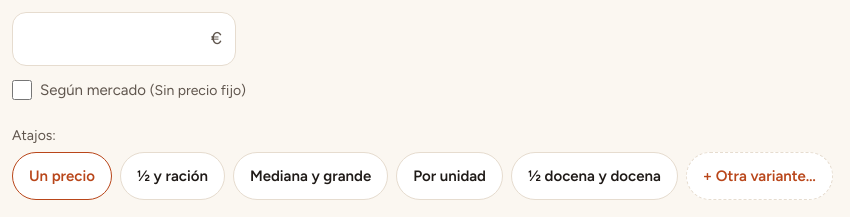
Scenario: EditorPrecios › «Según mercado» deja el precio vacío y desactiva el campo
This screenshot has width=850, height=217.
Type "20" into the field named "Precio". click: (124, 39)
box: [12,12,236,66]
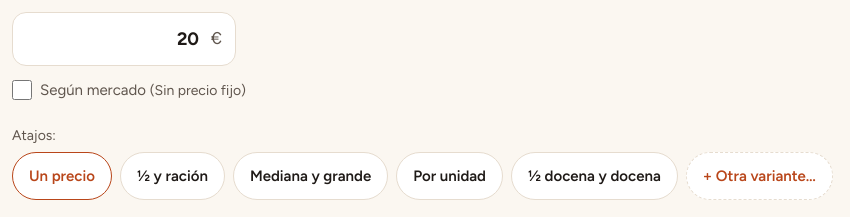
Click the checkbox labelled "Según mercado (Sin precio fijo)". click: (22, 90)
box: [12,80,32,100]
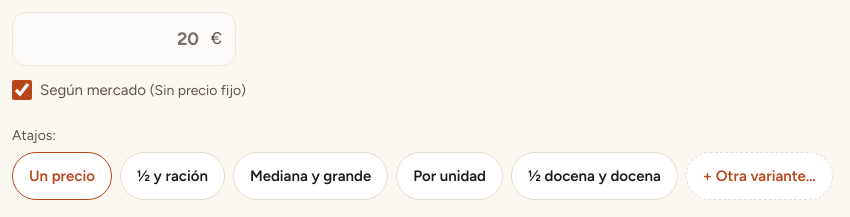
expect the field named "Precio" is disabled: met, box [12,12,236,66]
